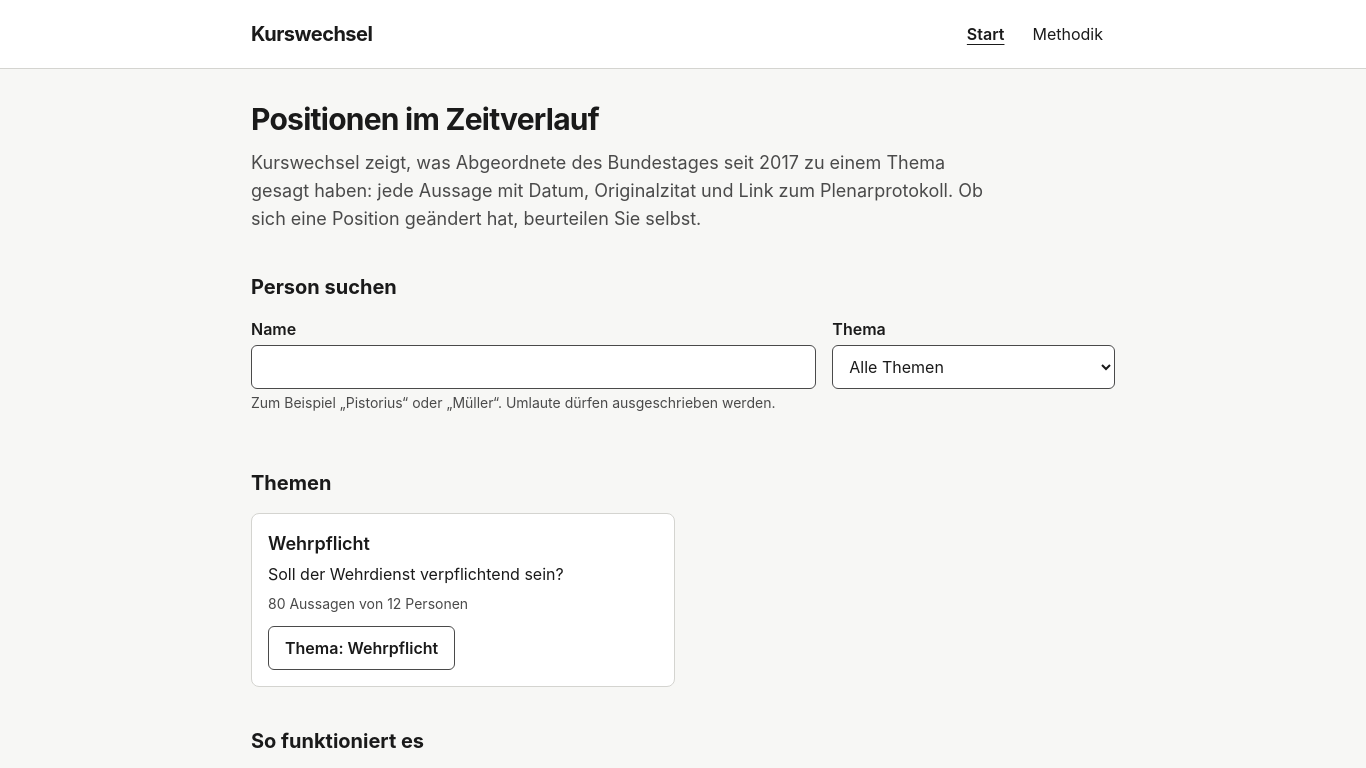
Scenario: home › a topic lists people with statements and links straight to the timeline
What coordinates should you click on to do the following:
click the button "Thema: Wehrpflicht"
I would click on:
 (362, 648)
Its box is left=268, top=626, right=455, bottom=670.
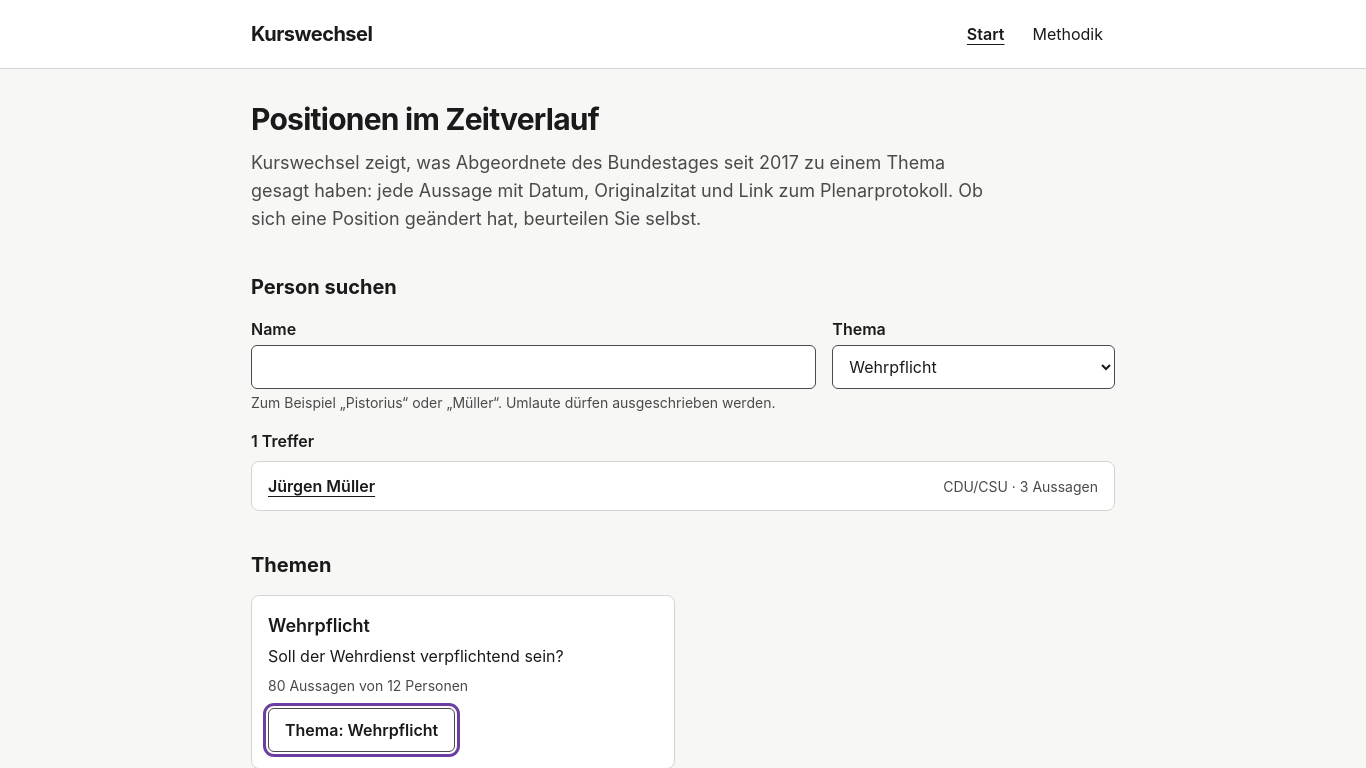
Result: the text "CDU/CSU · 3 Aussagen" is shown at left=943, top=477, right=1098, bottom=497
Result: the dropdown labelled "Thema" shows "Wehrpflicht" at left=832, top=345, right=1115, bottom=389
